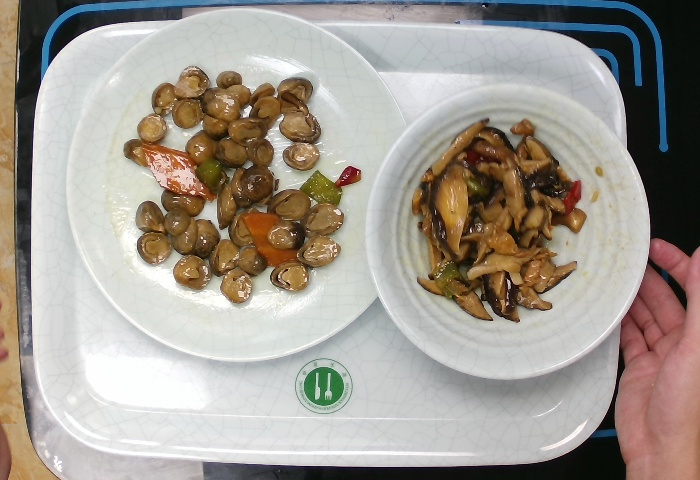JYsf-Da_Yuan_Pan: (64, 1, 420, 361)
JYsf-Xiao_Tang_Wan: (357, 76, 653, 385)
